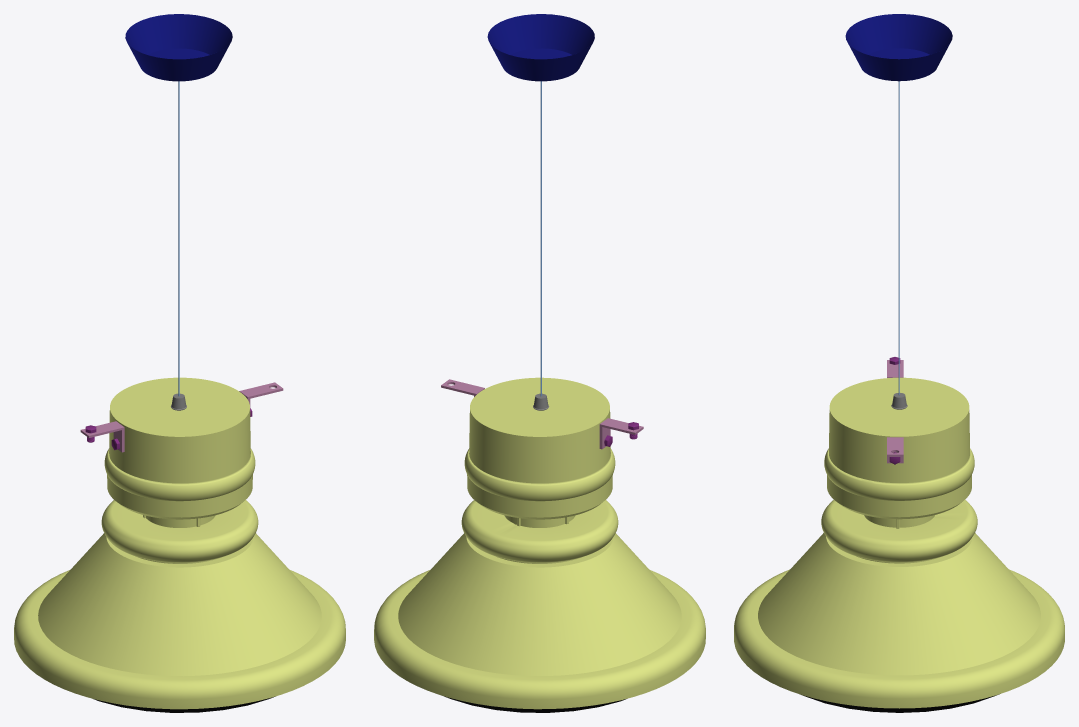
Rendered from uploads_files_3158726_Industrial_Celling_Lamp.fbx.
3 views of the same model, side by side, from view 1: azimuth 30°, elevation 25°; view 2: azimuth 150°, elevation 25°; view 3: azimuth 270°, elevation 25° (orthographic).
Visible parts, largest first — view 1: Main-Body, UP-Holder, Cable, Glass, Right-Hanger; view 2: Main-Body, UP-Holder, Cable, Glass, Right-Hanger; view 3: Main-Body, UP-Holder, Glass, Cable.
Part boxes in pixels (x1,y1,x2,y2): Main-Body: (14,377,345,709); UP-Holder: (125,14,232,81); Cable: (178,81,179,396); Glass: (93,696,275,712); Right-Hanger: (80,421,124,452); Main-Body: (374,377,705,709); UP-Holder: (487,14,594,81); Cable: (540,81,541,396); Glass: (444,696,625,712); Right-Hanger: (599,418,643,449); Main-Body: (734,377,1064,708); UP-Holder: (845,14,952,81); Glass: (802,694,999,712); Cable: (898,81,899,395).
Size of the model in its own units: 85.16 by 182 by 85.07.
